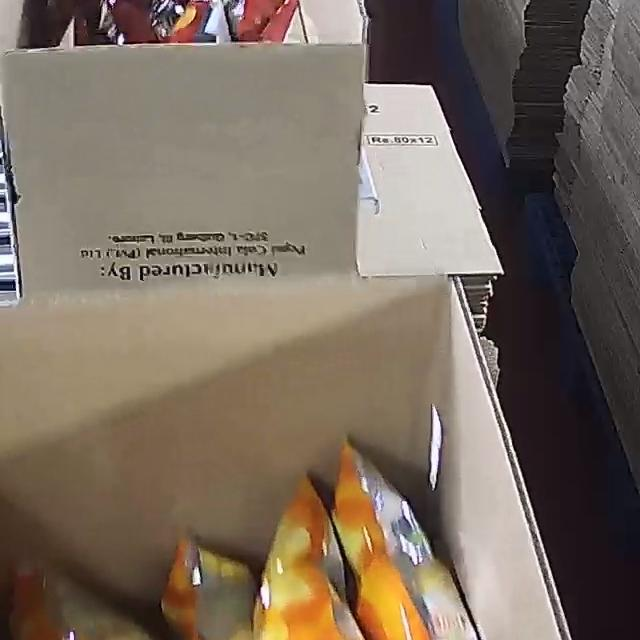cheese: (0, 436, 504, 640)
masala: (34, 0, 311, 42)
